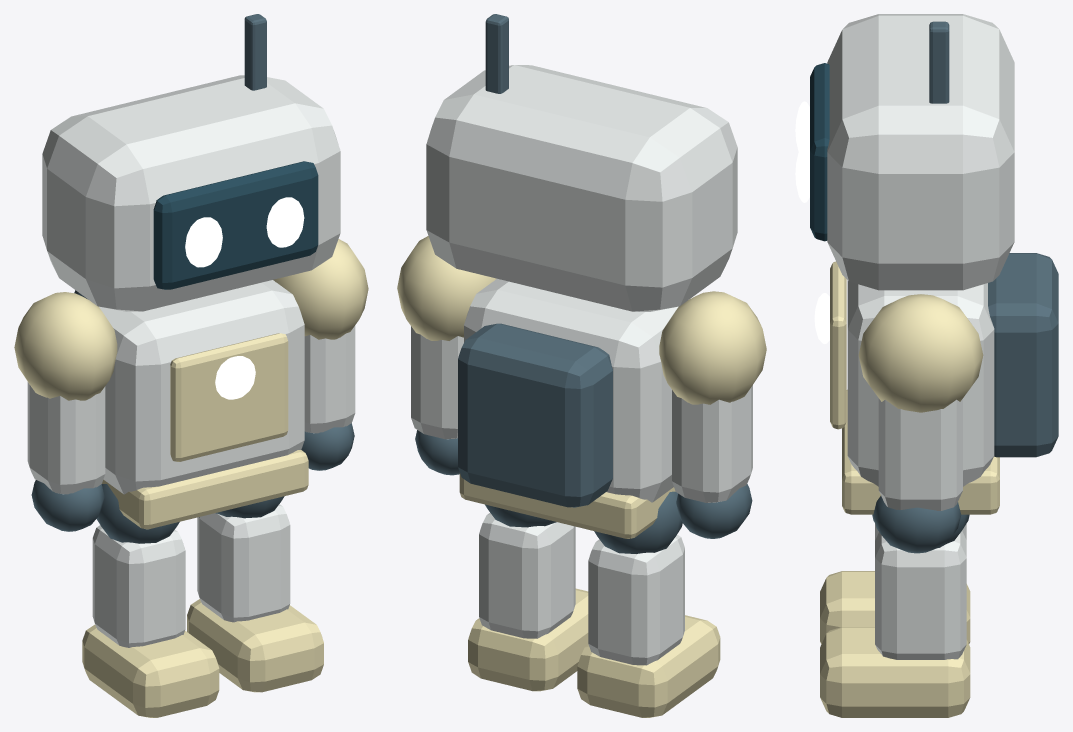
The model's file is juno.glb.
The picture shows the model from 3 angles, left to right: view 1: azimuth 30°, elevation 25°; view 2: azimuth 150°, elevation 25°; view 3: azimuth 270°, elevation 25°; orthographic projection. The views are drawn at different scales.
Parts seen in each view (by area): view 1: Head, Torso, Visor, Chest plate, Leg.023, Leg, Boot.023, Shoulder.023, Boot, Belt, Arm.023, Shoulder (+9 smaller); view 2: Head, Pack, Torso, Leg.023, Leg, Shoulder.023, Boot.023, Arm.023, Boot, Shoulder, Belt, Arm (+5 smaller); view 3: Head, Pack, Shoulder, Torso, Boot, Leg, Arm, Belt, Boot.023, Visor, Hand, Chest plate (+4 smaller).
Part boxes in pixels (box(x1,y1,x2,y2)): Head: box(42, 75, 340, 311); Torso: box(99, 280, 304, 494); Visor: box(153, 161, 318, 289); Chest plate: box(170, 333, 288, 461); Leg.023: box(92, 525, 185, 647); Leg: box(197, 504, 290, 622); Boot.023: box(82, 624, 219, 717); Shoulder.023: box(14, 292, 117, 400); Boot: box(187, 599, 323, 692); Belt: box(102, 450, 308, 529); Arm.023: box(27, 382, 105, 494); Shoulder: box(273, 239, 368, 339); Head: box(426, 65, 737, 311); Pack: box(458, 323, 612, 507); Torso: box(464, 278, 678, 502); Leg.023: box(588, 534, 684, 665); Leg: box(479, 513, 575, 638); Shoulder.023: box(659, 291, 766, 404); Boot.023: box(577, 615, 720, 717); Arm.023: box(672, 385, 752, 502); Boot: box(468, 588, 588, 691); Shoulder: box(397, 236, 496, 340); Belt: box(459, 473, 675, 538); Arm: box(411, 326, 463, 439); Head: box(827, 14, 1014, 290); Pack: box(988, 253, 1058, 457); Shoulder: box(858, 294, 983, 412); Torso: box(847, 280, 994, 486); Boot: box(820, 627, 970, 717); Leg: box(875, 531, 966, 659); Arm: box(878, 398, 962, 510); Belt: box(842, 389, 999, 514); Boot.023: box(820, 571, 970, 643); Visor: box(810, 63, 829, 241); Hand: box(873, 496, 961, 553); Chest plate: box(830, 261, 846, 429).
Size of the model in its own units: 1.16 by 2.08 by 0.717.
